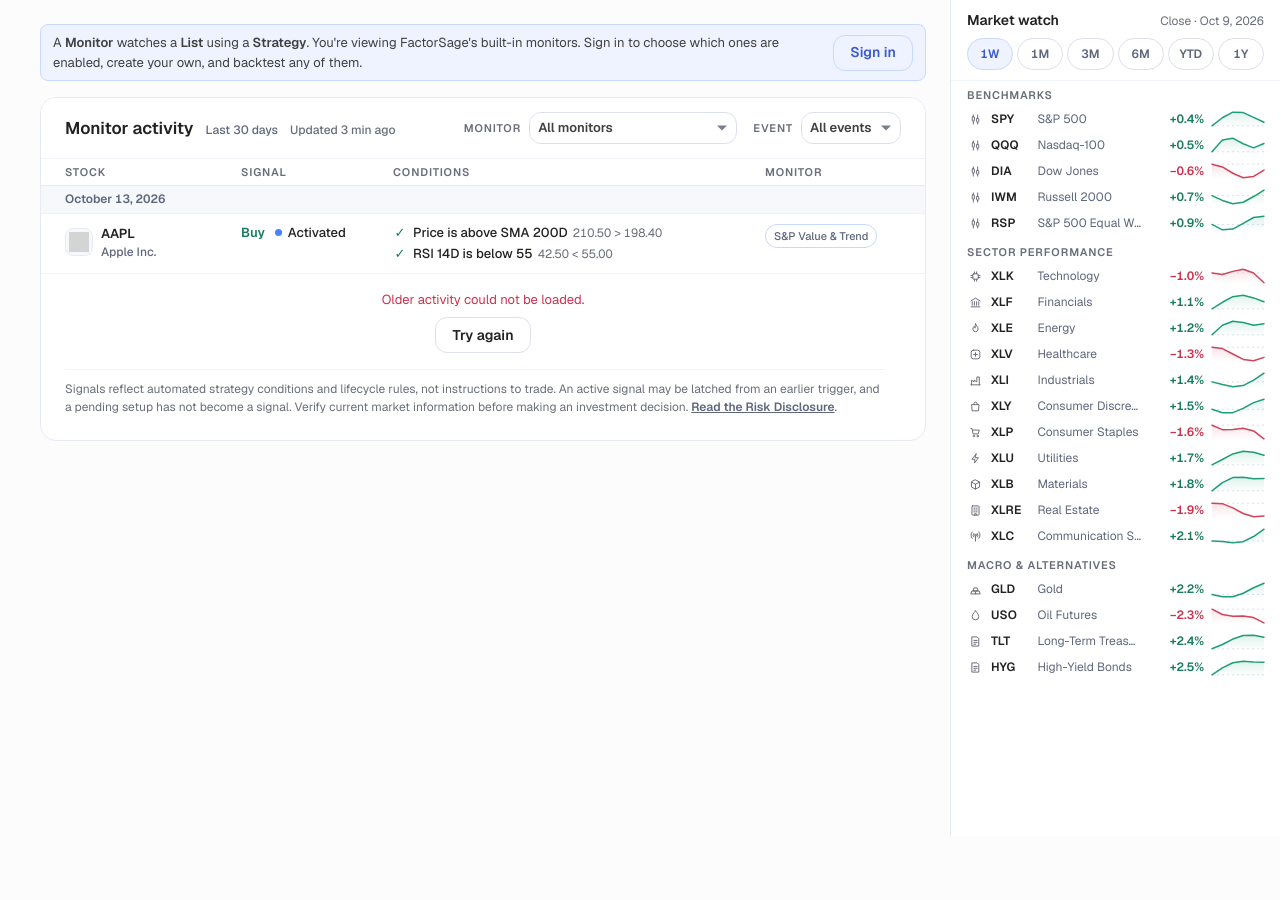
Test case: DashboardPage — older activity as the reader scrolls › stops loading on its own after a failure, and offers to try again
Check: the message with test id "dashboard-activity-more-failed" reads "Older activity could not be loaded.", box [382,291,584,308]
Step 1. Click the button with test id "dashboard-activity-more" → (483, 336), box [435,318,531,354]
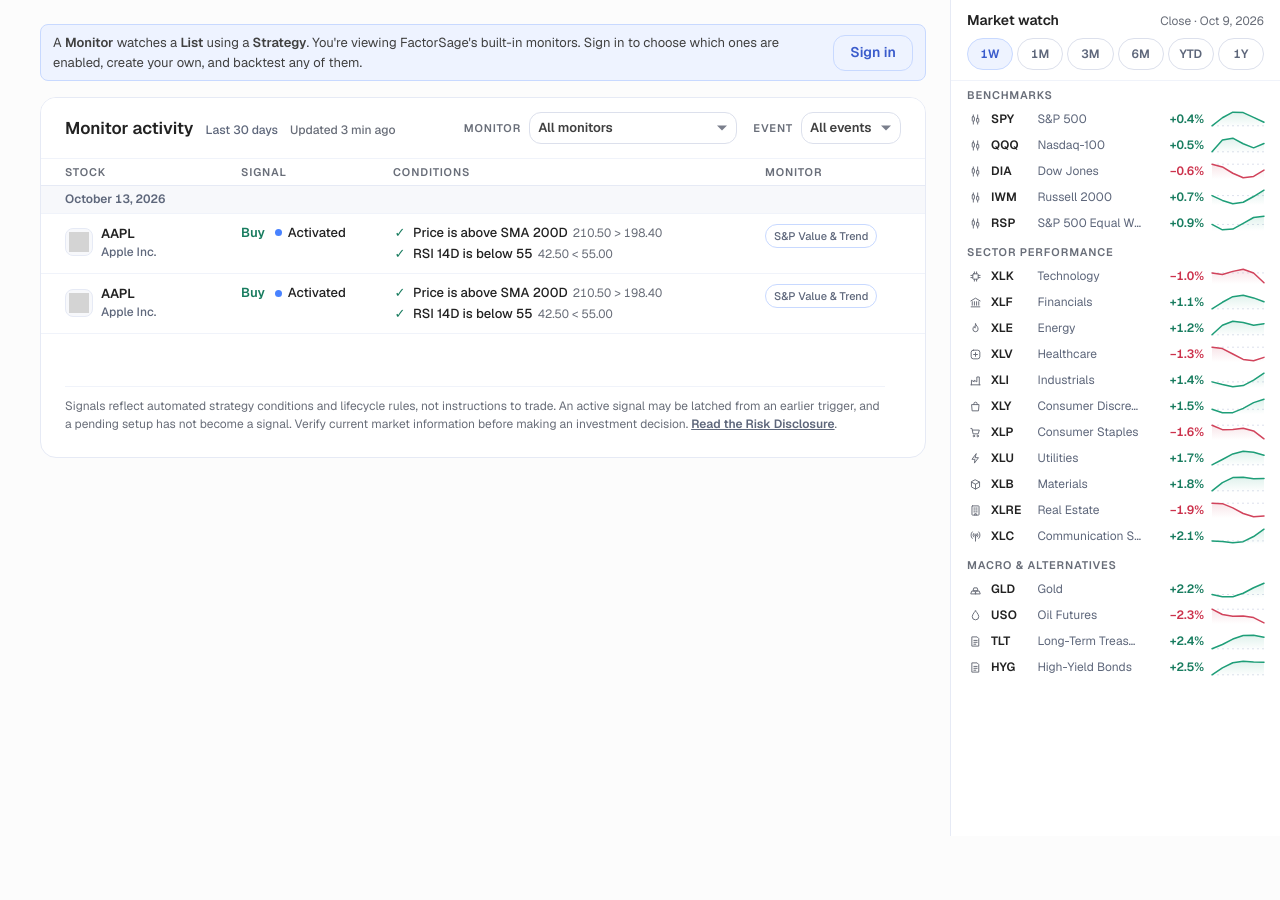
Check: the number of rows with test id "dashboard-activity-row" is 2, box [41,214,925,274]; [41,274,925,334]
